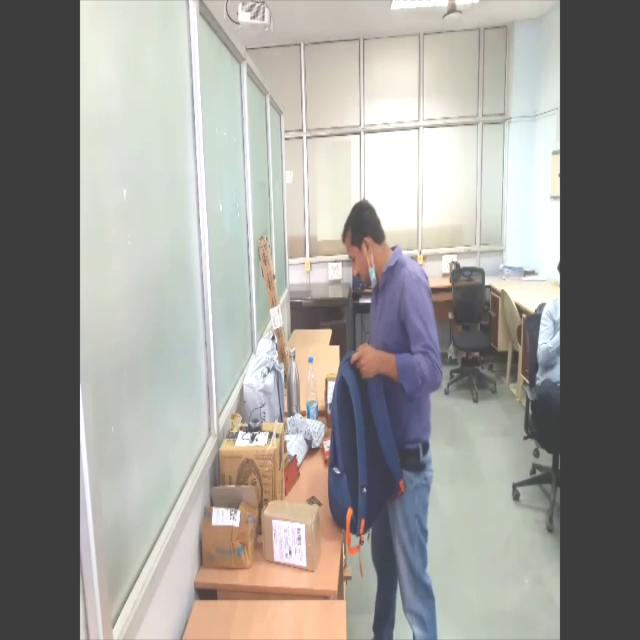shoplifting: (327, 198, 443, 640)
